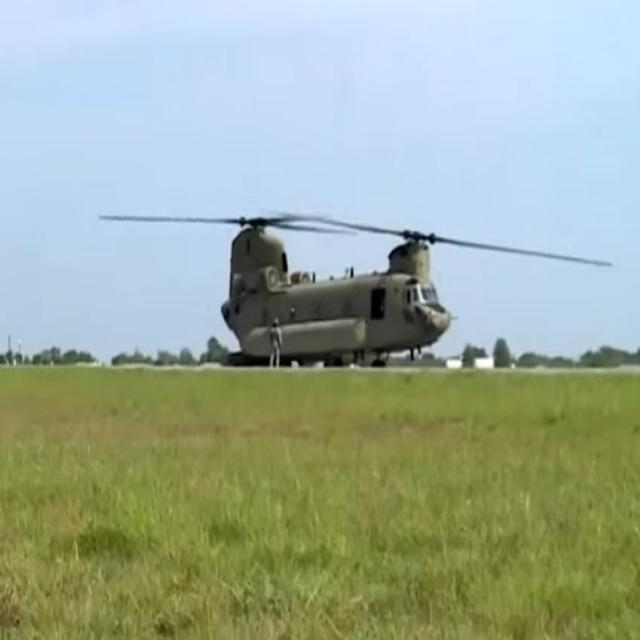Helicopter: (206, 163, 454, 385)
